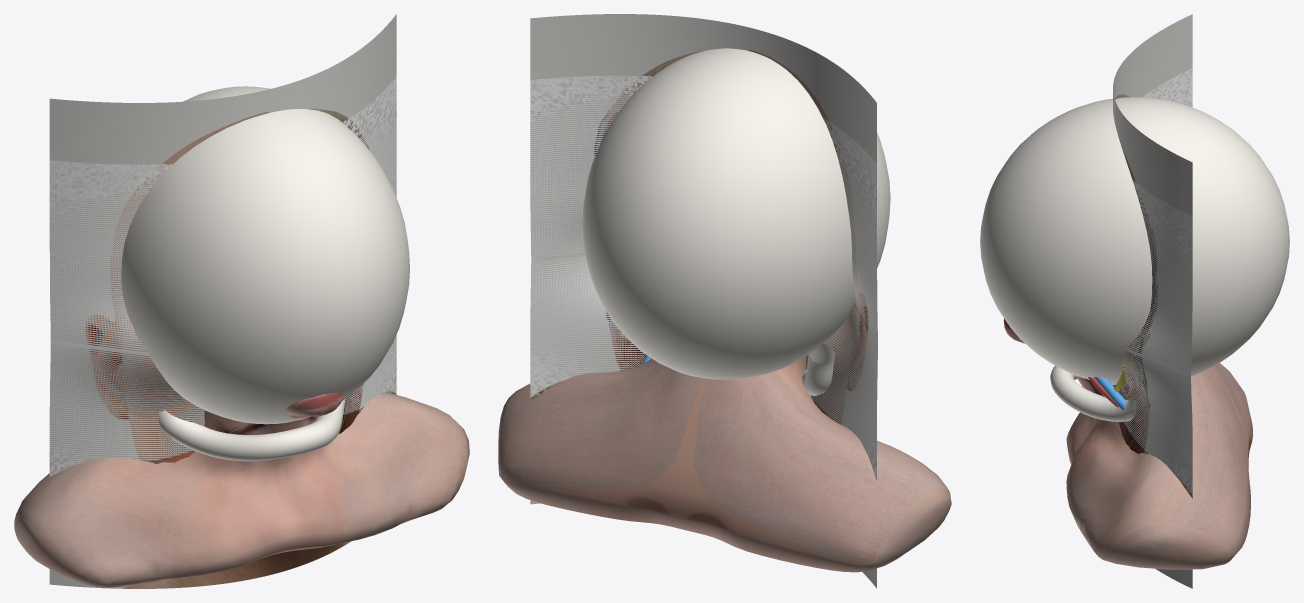
Rendered from face_anatomy.glb.
3 views of the same model, side by side, from view 1: azimuth 30°, elevation 25°; view 2: azimuth 150°, elevation 25°; view 3: azimuth 270°, elevation 25° (orthographic). The views are drawn at different scales.
Parts seen in each view (by area): view 1: Bone_Cranium, Full_Skin_Head, Medical_Split_Cutaway, Full_Muscles_Anatomy, Bone_Mandible; view 2: Bone_Cranium, Full_Skin_Head, Medical_Split_Cutaway, Full_Muscles_Anatomy, Bone_Mandible; view 3: Bone_Cranium, Full_Skin_Head, Medical_Split_Cutaway, Full_Muscles_Anatomy, Bone_Mandible.
Boxes of the visible parts, x1=… form: Bone_Cranium: x1=121, y1=86, x2=409, y2=424; Full_Skin_Head: x1=14, y1=392, x2=469, y2=587; Medical_Split_Cutaway: x1=49, y1=14, x2=396, y2=588; Full_Muscles_Anatomy: x1=49, y1=76, x2=396, y2=475; Bone_Mandible: x1=158, y1=399, x2=345, y2=461; Bone_Cranium: x1=582, y1=48, x2=890, y2=379; Full_Skin_Head: x1=498, y1=356, x2=951, y2=572; Medical_Split_Cutaway: x1=530, y1=14, x2=877, y2=588; Full_Muscles_Anatomy: x1=530, y1=75, x2=877, y2=478; Bone_Mandible: x1=802, y1=343, x2=834, y2=395; Bone_Cranium: x1=980, y1=97, x2=1289, y2=384; Full_Skin_Head: x1=1003, y1=318, x2=1252, y2=569; Medical_Split_Cutaway: x1=1113, y1=14, x2=1192, y2=588; Full_Muscles_Anatomy: x1=1114, y1=68, x2=1192, y2=498; Bone_Mandible: x1=1050, y1=365, x2=1136, y2=421.
Size of the model in its own units: 2.99 by 3.21 by 2.12.
Materials: 8 (3 with a texture image).
